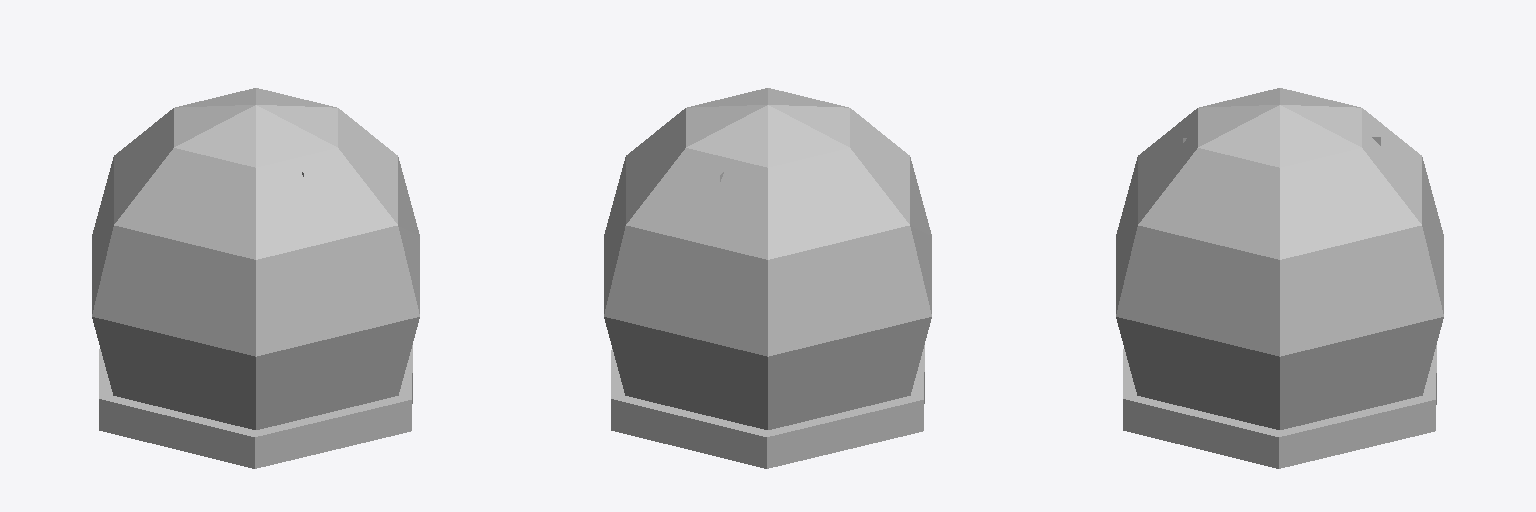
Rendered from snow globe.obj.
The picture shows the model from 3 angles: view 1: azimuth 30°, elevation 25°; view 2: azimuth 150°, elevation 25°; view 3: azimuth 270°, elevation 25°; orthographic projection.
Visible parts, largest first — view 1: gSnoGloBase; view 2: gSnoGloBase; view 3: gSnoGloBase.
Part boxes in pixels (x1,y1,x2,y2): gSnoGloBase: (92, 88, 419, 468); gSnoGloBase: (604, 88, 931, 468); gSnoGloBase: (1116, 88, 1443, 468).
Bounding box in the file's own units: 2.42 × 2.13 × 2.1.